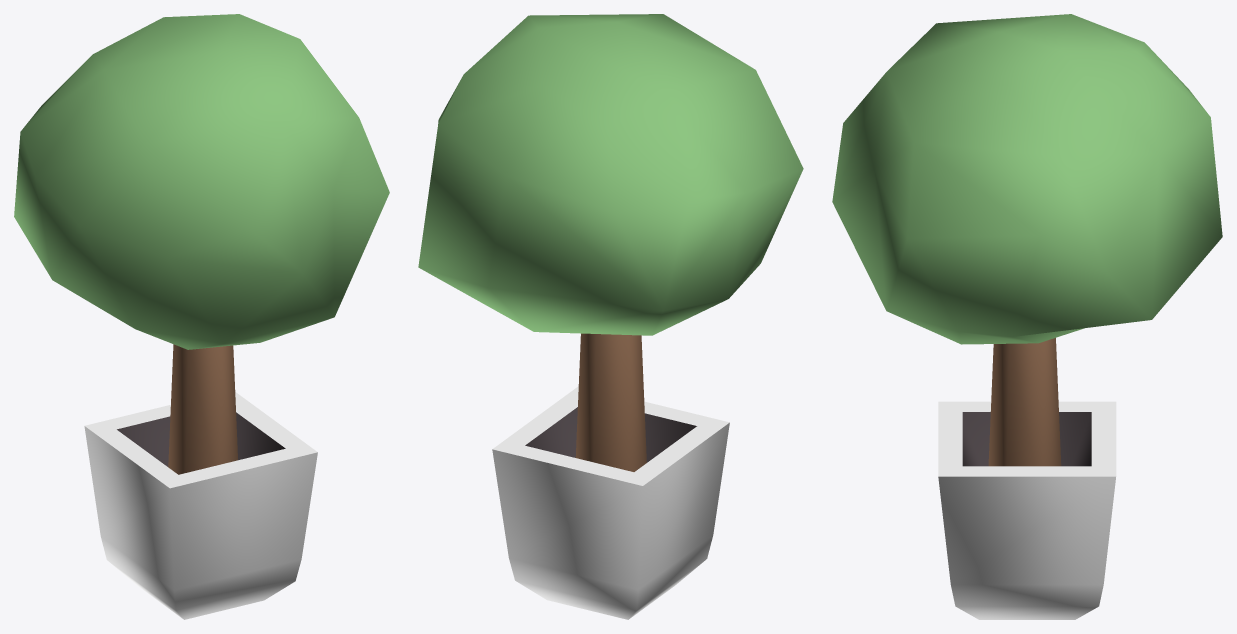
File: PlantPotB3_geo.fbx
The picture shows the model from 3 angles, left to right: view 1: azimuth 30°, elevation 25°; view 2: azimuth 150°, elevation 25°; view 3: azimuth 270°, elevation 25°; orthographic projection. The views are drawn at different scales.
Parts seen in each view (by area): view 1: PlantPotB3_geo; view 2: PlantPotB3_geo; view 3: PlantPotB3_geo.
Boxes of the visible parts, x1,y1,x2,y2 form: PlantPotB3_geo: (14, 14, 389, 619); PlantPotB3_geo: (418, 14, 803, 619); PlantPotB3_geo: (832, 14, 1222, 619).
Size of the model in its own units: 0.5175 by 0.5279 by 0.8596.
